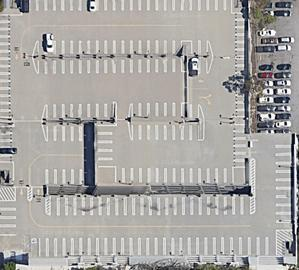parkingspot: (29, 237, 278, 258), (49, 195, 252, 218), (20, 0, 233, 15), (37, 56, 183, 76), (274, 1, 294, 134), (37, 39, 183, 57), (232, 12, 248, 169), (114, 167, 235, 186), (0, 14, 15, 164), (256, 28, 276, 134), (274, 133, 295, 232), (131, 123, 200, 143), (45, 102, 115, 121), (131, 102, 200, 121), (46, 122, 95, 143), (46, 168, 96, 187), (97, 126, 114, 168), (0, 200, 17, 236), (188, 56, 208, 76), (191, 40, 210, 58)
